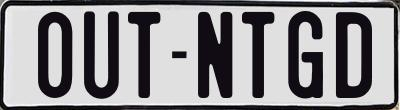0: (36, 12, 76, 103)
D: (334, 12, 371, 103)
G: (288, 11, 326, 101)
N: (198, 10, 236, 100)
T: (126, 12, 158, 100), (240, 10, 272, 96)
U: (83, 10, 124, 102)
